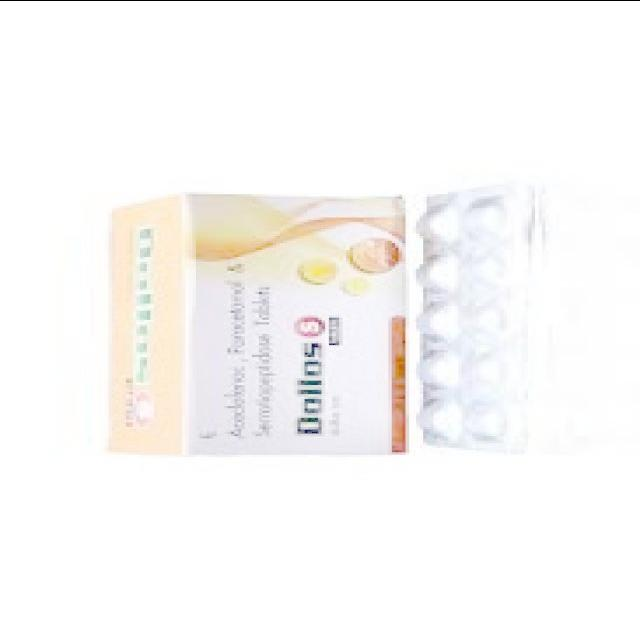authentic: (93, 174, 413, 472), (416, 173, 558, 462)
